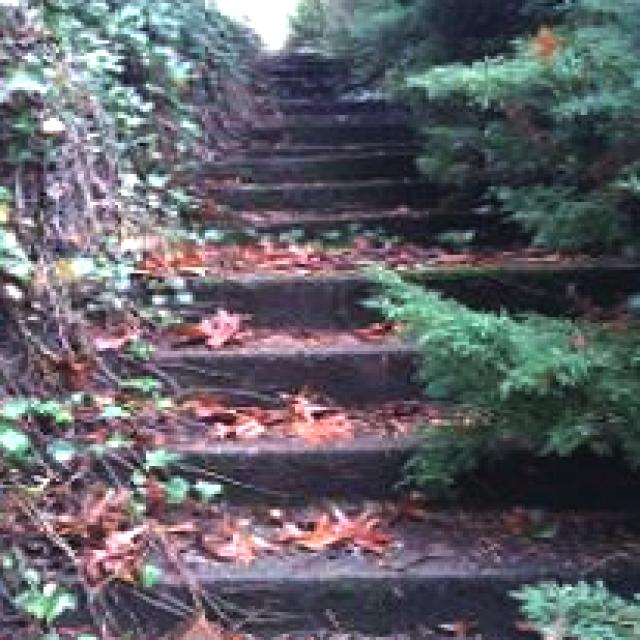upstair: (57, 253, 610, 616)
